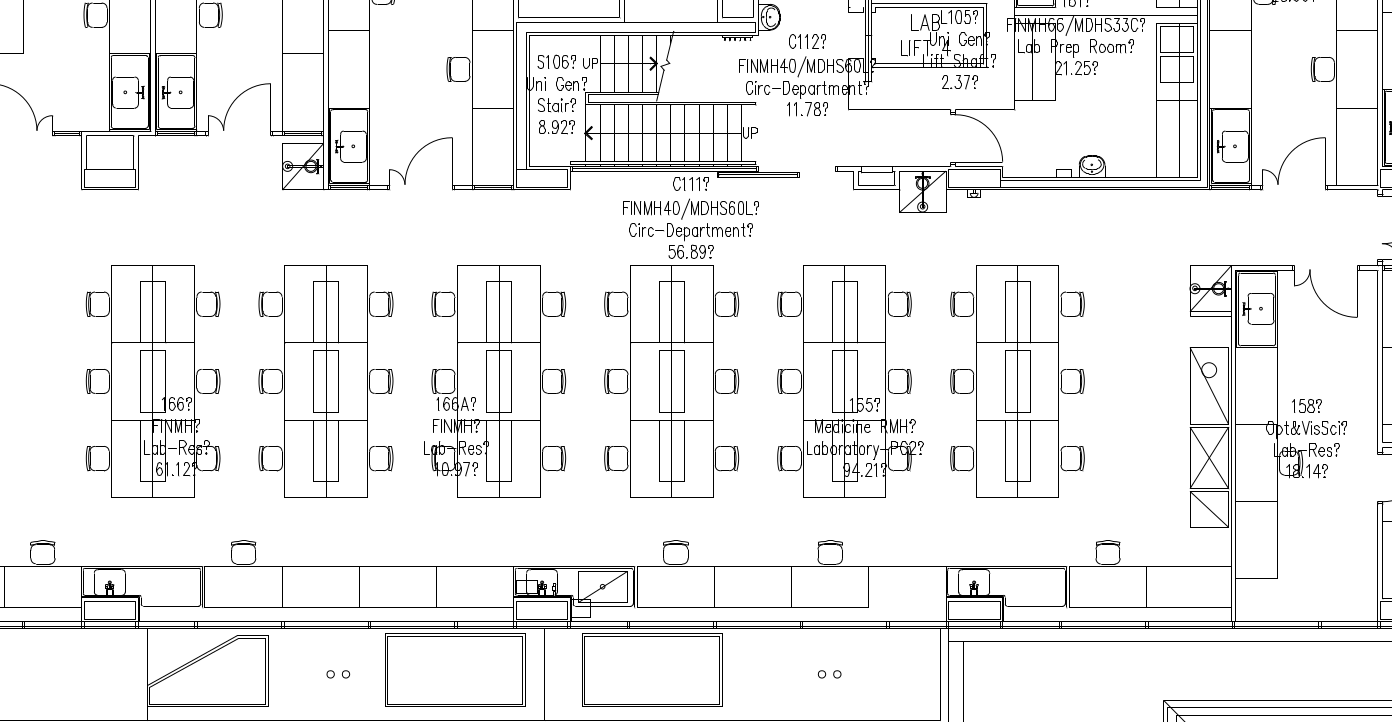door: (951, 111, 1008, 166), (1277, 131, 1328, 192), (1308, 263, 1359, 324), (223, 76, 274, 137), (403, 132, 454, 193), (1, 78, 39, 138), (30, 107, 60, 143), (199, 106, 229, 142), (1257, 160, 1287, 196), (1289, 262, 1319, 298), (379, 163, 409, 199)
